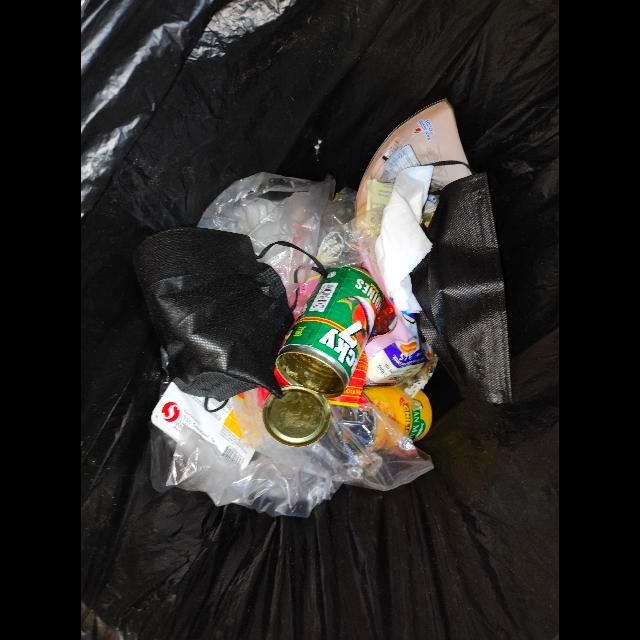aluminum: (263, 267, 385, 448)
food_wrapper: (151, 382, 270, 470)
plastic_bag: (197, 173, 355, 284)
